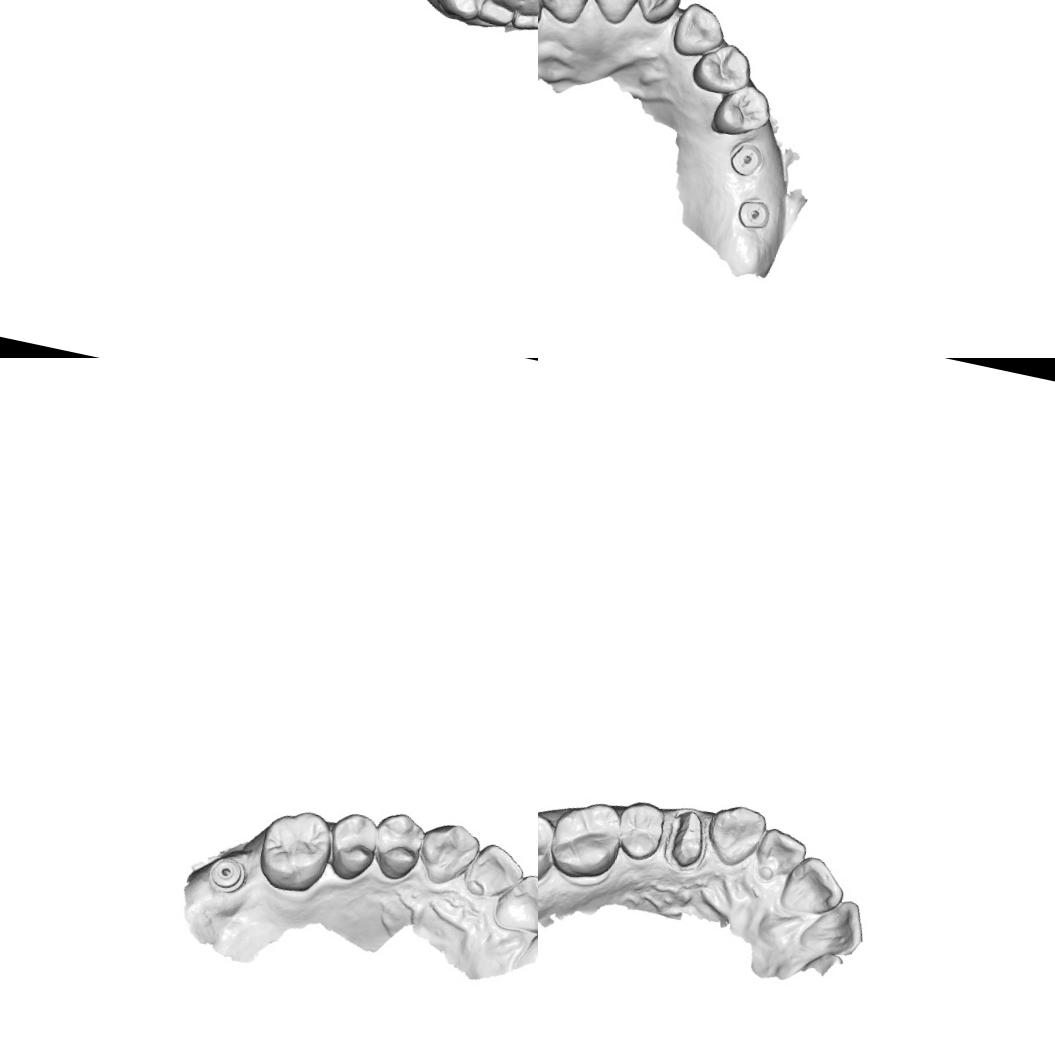canine: (411, 815, 485, 895), (702, 800, 770, 872), (669, 0, 730, 63), (428, 0, 494, 24)
crown: (658, 804, 714, 878)
implant: (204, 850, 252, 901)
implant_minus: (723, 136, 768, 180), (734, 194, 775, 234)
incisor: (794, 891, 872, 963), (458, 836, 533, 910), (776, 850, 850, 924), (487, 865, 538, 944), (750, 825, 810, 889), (580, 0, 646, 29), (631, 0, 686, 30), (538, 0, 595, 27), (477, 0, 524, 29), (509, 0, 538, 36)
molar: (250, 800, 340, 901), (543, 793, 628, 886), (538, 803, 563, 896)
premolar: (365, 805, 433, 888), (318, 804, 386, 886), (708, 79, 776, 144), (688, 37, 757, 101), (612, 797, 670, 866)
